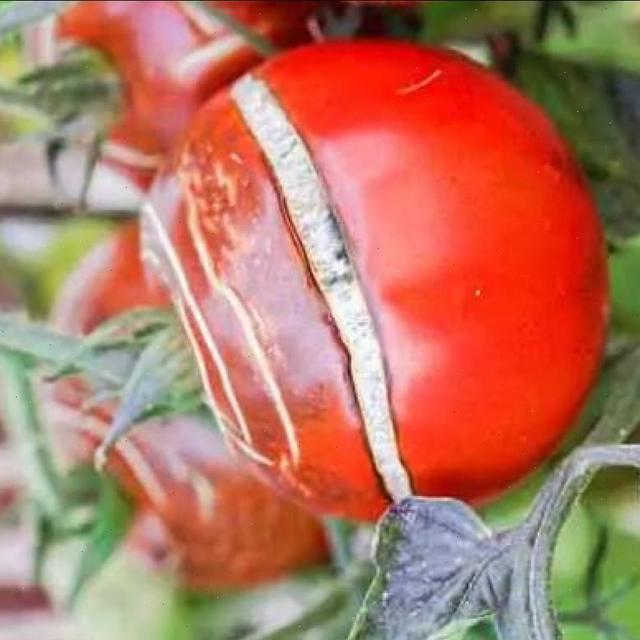Cracking Fruit: (42, 30, 217, 326)
